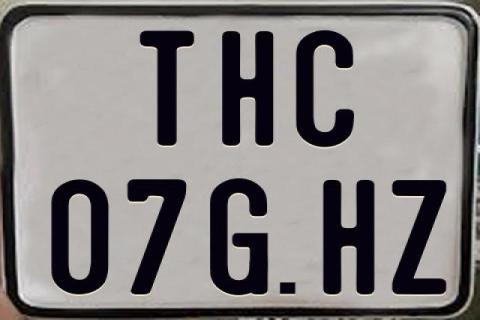0: (51, 178, 113, 298), (124, 178, 186, 294)
C: (295, 30, 354, 148)
G: (210, 178, 271, 300)
H: (322, 180, 379, 296), (220, 30, 276, 144)
T: (138, 30, 194, 148)
Z: (391, 178, 446, 294)
